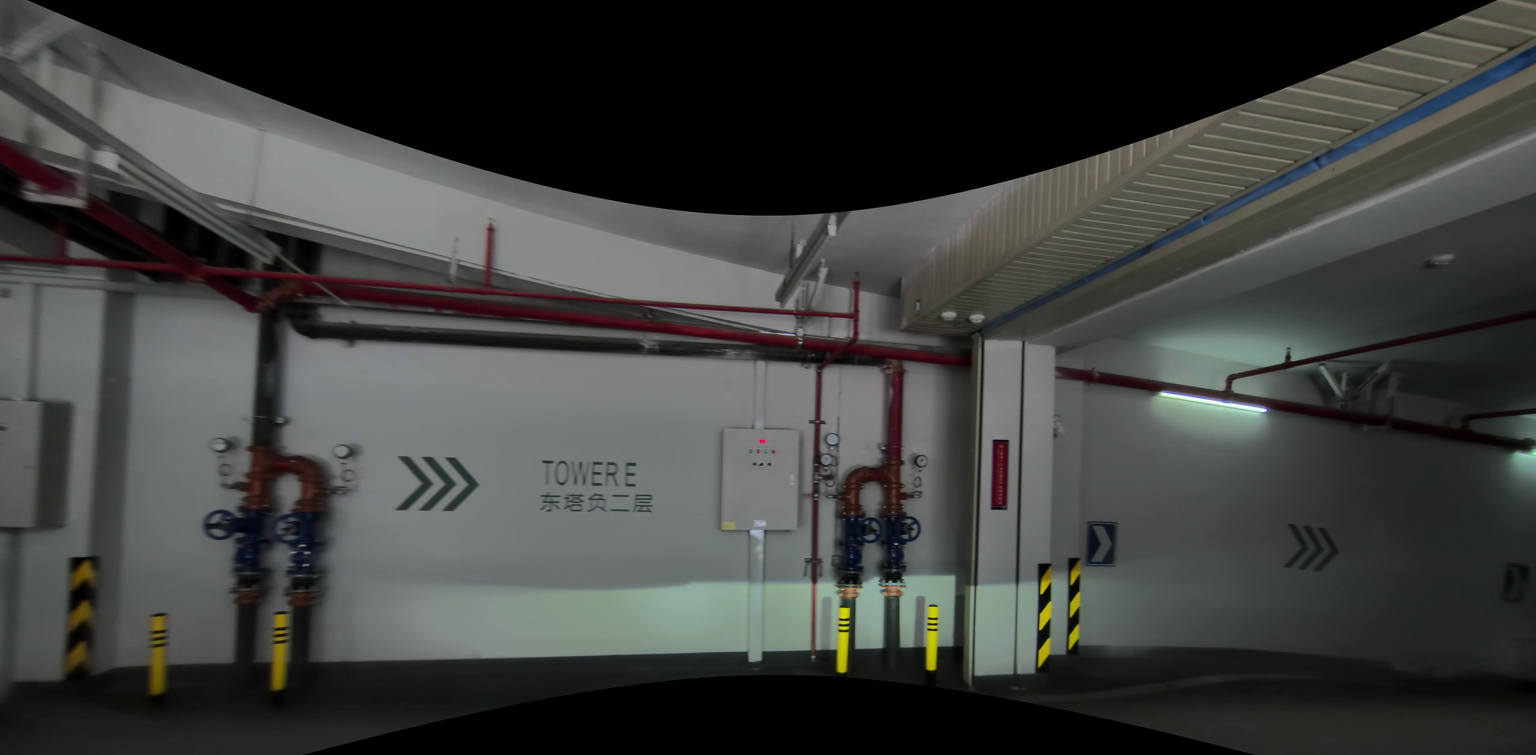TOWER E: (540, 458, 639, 487)
东塔负二层: (539, 489, 653, 514)
右: (394, 455, 482, 511), (1282, 522, 1341, 571), (1086, 521, 1118, 566), (1500, 565, 1525, 604)
